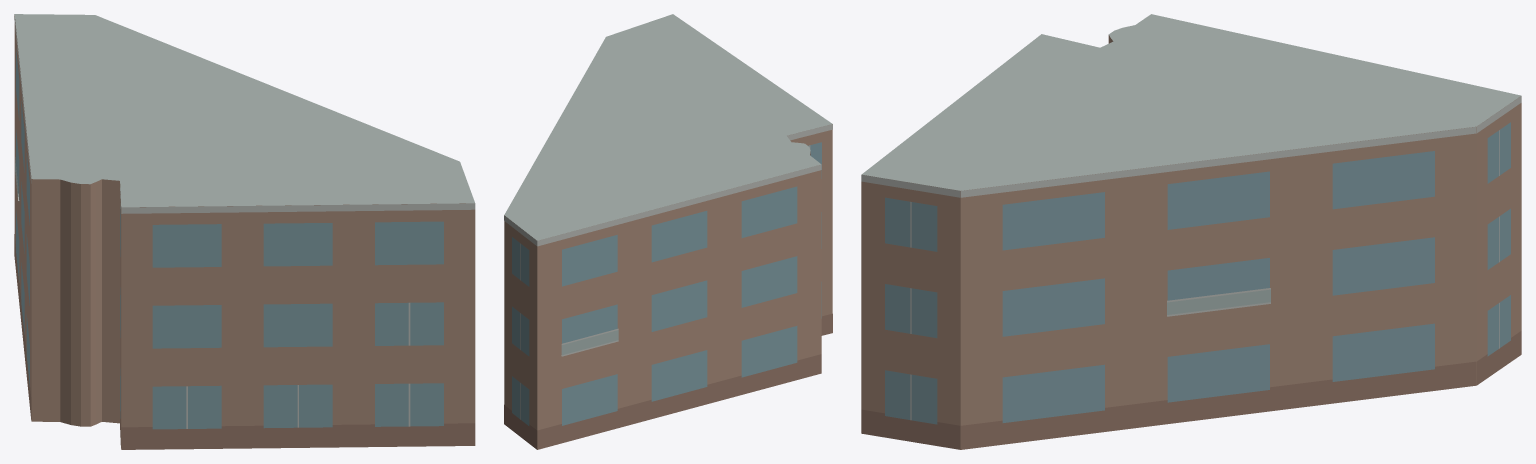
Rendered from survey-upis-32525093.glb.
The picture shows the model from 3 angles, left to right: view 1: azimuth 30°, elevation 25°; view 2: azimuth 150°, elevation 25°; view 3: azimuth 270°, elevation 25°; orthographic projection. The views are drawn at different scales.
Visible parts, largest first — view 1: survey-upis-32525093.tmp; view 2: survey-upis-32525093.tmp; view 3: survey-upis-32525093.tmp.
Part boxes in pixels (x1,y1,x2,y2): survey-upis-32525093.tmp: (14, 14, 475, 449); survey-upis-32525093.tmp: (504, 14, 832, 449); survey-upis-32525093.tmp: (861, 14, 1521, 449).
Size of the model in its own units: 13.33 by 9.1 by 21.03.
